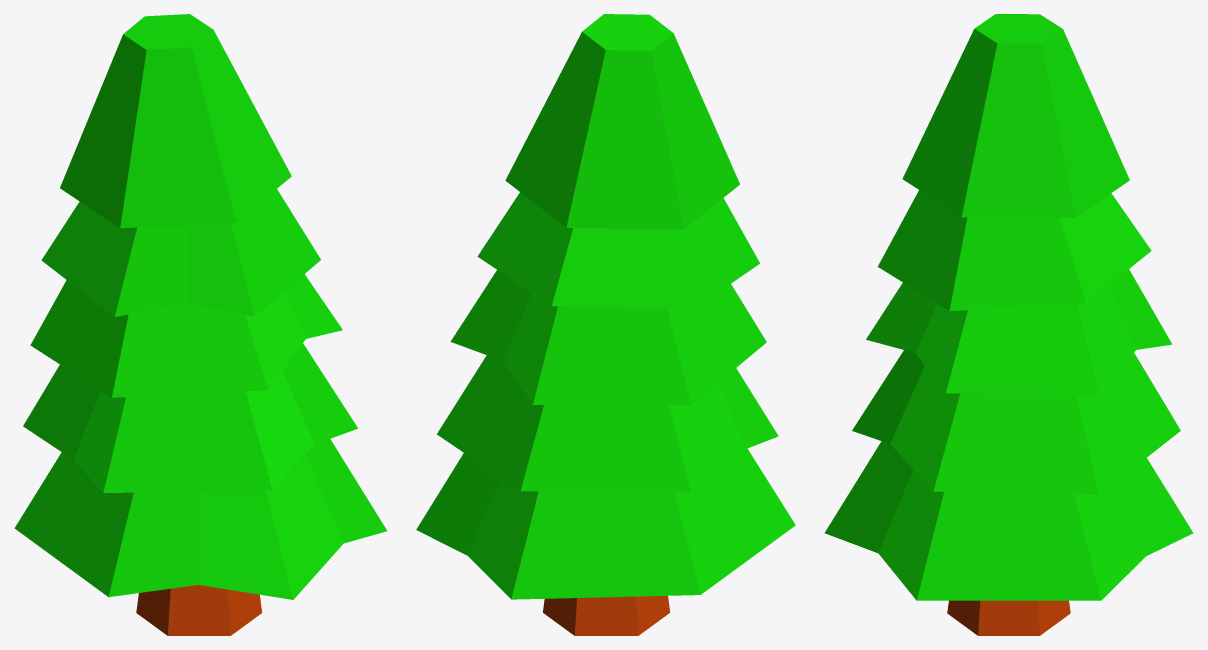
File: Drzewo23v2.fbx
The picture shows the model from 3 angles, left to right: view 1: azimuth 30°, elevation 25°; view 2: azimuth 150°, elevation 25°; view 3: azimuth 270°, elevation 25°; orthographic projection. The views are drawn at different scales.
Parts seen in each view (by area): view 1: Walec.001, Walec.005, Walec.002, Walec.003, Walec.004, Walec; view 2: Walec.001, Walec.005, Walec.002, Walec.003, Walec.004, Walec; view 3: Walec.001, Walec.005, Walec.002, Walec.003, Walec.004, Walec.
Boxes of the visible parts, x1,y1,x2,y2 form: Walec.001: [14, 439, 386, 599]; Walec.005: [60, 14, 291, 228]; Walec.002: [23, 343, 357, 492]; Walec.003: [30, 274, 342, 397]; Walec.004: [41, 189, 320, 316]; Walec: [136, 585, 262, 635]; Walec.001: [416, 448, 795, 599]; Walec.005: [505, 14, 739, 229]; Walec.002: [437, 355, 778, 492]; Walec.003: [450, 270, 766, 405]; Walec.004: [477, 192, 759, 309]; Walec: [543, 596, 670, 635]; Walec.001: [824, 441, 1193, 600]; Walec.005: [902, 14, 1129, 217]; Walec.002: [852, 350, 1180, 494]; Walec.003: [866, 269, 1172, 395]; Walec.004: [878, 190, 1151, 311]; Walec: [947, 600, 1070, 635].
Bounding box in the file's own units: 322 × 643 × 375.
